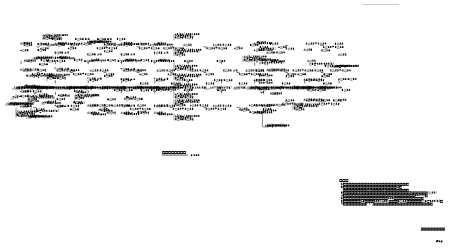wall: (21, 154, 24, 157), (56, 80, 59, 83), (56, 167, 59, 170), (62, 110, 65, 113), (93, 81, 96, 84), (90, 110, 93, 113), (88, 110, 91, 113), (131, 124, 134, 127), (137, 155, 140, 158), (127, 110, 130, 113), (169, 167, 172, 170), (177, 153, 180, 156), (175, 180, 178, 183), (163, 110, 166, 113), (161, 110, 164, 113), (210, 81, 213, 84), (193, 84, 196, 87), (303, 153, 306, 156), (308, 110, 311, 113), (96, 122, 99, 125), (342, 122, 345, 125), (193, 115, 196, 118), (58, 138, 61, 141), (134, 138, 137, 141), (172, 138, 175, 141), (210, 138, 213, 141), (248, 138, 251, 141), (327, 138, 330, 141), (370, 138, 373, 141), (193, 123, 196, 126), (193, 131, 196, 134), (152, 174, 155, 177), (42, 110, 45, 113), (40, 110, 43, 113), (20, 104, 23, 107), (26, 96, 29, 99), (116, 69, 119, 72), (193, 61, 196, 64), (193, 197, 196, 200), (154, 69, 157, 72), (149, 110, 152, 113), (147, 110, 150, 113), (324, 110, 327, 113), (30, 110, 33, 113), (28, 110, 31, 113), (193, 94, 196, 97), (193, 140, 196, 143), (383, 106, 386, 109), (357, 110, 360, 113), (355, 110, 358, 113), (299, 48, 302, 51), (229, 174, 232, 177), (278, 70, 281, 73), (99, 154, 102, 157), (135, 68, 138, 71), (137, 181, 140, 184), (169, 124, 172, 127), (285, 138, 288, 141), (42, 86, 45, 89), (137, 94, 140, 97), (106, 73, 109, 76), (5, 84, 8, 87), (3, 84, 6, 87), (24, 112, 27, 115), (131, 140, 134, 143), (17, 104, 19, 107), (17, 171, 19, 174), (14, 110, 16, 113), (12, 110, 14, 113), (10, 110, 12, 113), (62, 97, 64, 100), (60, 160, 63, 162), (62, 159, 64, 162), (60, 183, 63, 185), (66, 110, 68, 113), (64, 110, 66, 113), (93, 125, 96, 127), (93, 165, 96, 167), (87, 110, 89, 113), (131, 81, 134, 83), (131, 165, 134, 167), (126, 110, 128, 113), (124, 110, 126, 113), (173, 68, 176, 70), (175, 67, 178, 69), (175, 108, 178, 110), (174, 155, 176, 158), (175, 155, 178, 157), (174, 182, 176, 185), (165, 110, 167, 113), (214, 110, 216, 113), (242, 110, 244, 113), (280, 110, 282, 113), (278, 110, 280, 113), (276, 110, 278, 113), (20, 80, 23, 82), (58, 80, 61, 82), (96, 81, 99, 83), (121, 81, 124, 83), (172, 81, 175, 83), (292, 81, 295, 83), (107, 75, 109, 78), (142, 76, 145, 78), (228, 76, 231, 78), (266, 76, 269, 78), (193, 87, 196, 89), (193, 82, 196, 84), (193, 90, 196, 92), (297, 82, 300, 84), (297, 168, 300, 170), (303, 101, 306, 103), (302, 155, 304, 158), (307, 110, 309, 113), (305, 110, 307, 113), (340, 172, 342, 175), (344, 106, 346, 109), (339, 110, 341, 113), (337, 110, 339, 113), (335, 110, 337, 113), (134, 122, 136, 125), (172, 122, 174, 125), (204, 122, 206, 125), (238, 122, 240, 125), (362, 117, 365, 119), (193, 110, 196, 112), (193, 113, 196, 115), (21, 138, 23, 141), (97, 138, 99, 141), (274, 138, 276, 141), (300, 138, 302, 141), (30, 132, 33, 134), (77, 132, 80, 134), (228, 132, 231, 134), (266, 132, 269, 134), (321, 132, 324, 134), (193, 126, 196, 128), (193, 129, 196, 131), (301, 182, 304, 184), (40, 174, 42, 177), (71, 175, 74, 177), (104, 175, 107, 177), (261, 174, 263, 177), (290, 176, 292, 179), (311, 176, 313, 179), (362, 176, 364, 179), (193, 167, 196, 169), (193, 169, 196, 171), (193, 164, 196, 166), (193, 172, 196, 174), (342, 90, 345, 92), (373, 90, 376, 92), (357, 84, 360, 86), (329, 77, 331, 80), (39, 110, 41, 113), (38, 99, 41, 101), (26, 91, 29, 93), (26, 94, 29, 96), (26, 89, 29, 91), (80, 98, 82, 101), (113, 129, 115, 132), (116, 91, 119, 93), (116, 155, 119, 157), (116, 182, 119, 184), (112, 110, 114, 113), (110, 110, 112, 113), (108, 110, 110, 113), (193, 59, 196, 61), (193, 64, 196, 66), (193, 192, 196, 194), (193, 195, 196, 197), (40, 155, 43, 157), (40, 182, 43, 184), (36, 159, 39, 161), (34, 159, 37, 161), (78, 105, 81, 107), (74, 110, 76, 113), (72, 110, 74, 113), (70, 110, 72, 113), (154, 155, 157, 157), (154, 182, 157, 184), (146, 110, 148, 113), (186, 110, 188, 113), (234, 110, 236, 113), (261, 110, 263, 113), (328, 110, 330, 113), (326, 110, 328, 113), (9, 94, 11, 97), (32, 110, 34, 113), (193, 97, 196, 99), (193, 100, 196, 102), (47, 154, 50, 156), (39, 148, 41, 151), (193, 143, 196, 145), (193, 146, 196, 148), (379, 90, 381, 93), (379, 124, 381, 127), (379, 164, 381, 167), (383, 146, 386, 148), (376, 146, 379, 148), (374, 146, 377, 148), (372, 146, 375, 148), (359, 110, 361, 113), (298, 48, 300, 51), (296, 48, 298, 51), (180, 174, 182, 177), (21, 180, 24, 182), (123, 180, 126, 182), (164, 180, 167, 182), (236, 180, 239, 182), (342, 182, 345, 184), (375, 182, 378, 184), (21, 112, 24, 114), (23, 113, 25, 116), (99, 67, 102, 69), (137, 67, 140, 69), (135, 183, 138, 185), (169, 81, 172, 83), (293, 75, 296, 77), (78, 156, 81, 158), (154, 106, 157, 108), (287, 108, 289, 111), (30, 63, 32, 66), (28, 63, 30, 66), (26, 63, 28, 66), (272, 158, 274, 161), (291, 156, 293, 159), (294, 111, 297, 113), (56, 182, 59, 184), (78, 182, 81, 184), (131, 182, 134, 184), (169, 182, 172, 184), (44, 193, 46, 196), (53, 190, 56, 192), (127, 190, 130, 192), (92, 110, 94, 113), (13, 71, 15, 74), (266, 74, 269, 76), (93, 70, 96, 72), (113, 72, 115, 75), (37, 181, 39, 184), (169, 70, 172, 72), (283, 70, 286, 72), (283, 171, 285, 174), (289, 172, 292, 174), (289, 130, 292, 132), (2, 84, 4, 87), (113, 169, 115, 172), (293, 73, 296, 75), (17, 96, 19, 99), (289, 118, 292, 120), (38, 97, 41, 99), (17, 140, 19, 142), (23, 154, 25, 156), (56, 141, 58, 143), (60, 98, 62, 100), (64, 158, 66, 160), (62, 182, 64, 184), (136, 156, 138, 158), (139, 154, 141, 156), (174, 107, 176, 109), (283, 82, 285, 84), (283, 123, 285, 125), (283, 183, 285, 185), (237, 81, 239, 83), (278, 82, 280, 84), (74, 75, 76, 77), (191, 76, 193, 78), (298, 140, 300, 142), (302, 101, 304, 103), (340, 91, 342, 93), (340, 124, 342, 126), (344, 154, 346, 156), (346, 149, 348, 151), (154, 117, 156, 119), (189, 117, 191, 119), (229, 117, 231, 119), (266, 117, 268, 119), (286, 123, 288, 125), (315, 117, 317, 119), (29, 130, 31, 132), (115, 132, 117, 134), (153, 132, 155, 134), (185, 132, 187, 134), (290, 132, 292, 134), (363, 132, 365, 134), (279, 180, 281, 182), (288, 174, 290, 176), (316, 84, 318, 86), (329, 80, 331, 82), (329, 75, 331, 77), (329, 83, 331, 85), (13, 67, 15, 69), (13, 69, 15, 71), (80, 93, 82, 95), (80, 96, 82, 98), (37, 172, 39, 174), (33, 159, 35, 161), (151, 71, 153, 73), (320, 129, 322, 131), (24, 130, 26, 132), (124, 106, 126, 108), (166, 106, 168, 108), (204, 106, 206, 108), (242, 106, 244, 108), (90, 154, 92, 156), (128, 154, 130, 156), (166, 154, 168, 156), (204, 154, 206, 156), (241, 154, 243, 156), (360, 129, 362, 131), (364, 110, 366, 112), (364, 146, 366, 148), (21, 183, 23, 185), (47, 180, 49, 182), (89, 182, 91, 184), (203, 180, 205, 182), (98, 156, 100, 158), (98, 98, 100, 100), (98, 69, 100, 71), (287, 185, 289, 187), (289, 183, 291, 185), (287, 71, 289, 73), (289, 70, 291, 72), (291, 103, 293, 105), (289, 108, 291, 110), (35, 75, 37, 77), (33, 72, 35, 74), (272, 156, 274, 158), (272, 161, 274, 163), (287, 157, 289, 159), (289, 151, 291, 153), (293, 155, 295, 157), (13, 64, 15, 66), (17, 183, 19, 185), (75, 139, 77, 141), (44, 191, 46, 193), (44, 196, 46, 198), (80, 190, 82, 192), (105, 190, 107, 192), (97, 185, 99, 187), (95, 185, 97, 187), (93, 185, 95, 187), (103, 185, 105, 187), (136, 92, 138, 94), (49, 87, 51, 89), (59, 92, 61, 94), (78, 87, 80, 89), (77, 85, 79, 87), (48, 85, 50, 87), (13, 97, 15, 99), (75, 181, 77, 183), (113, 181, 115, 183), (132, 70, 134, 72), (151, 182, 153, 184), (48, 126, 50, 128), (48, 129, 50, 131), (48, 131, 50, 133), (80, 103, 82, 105), (37, 139, 39, 141), (75, 81, 77, 83), (113, 81, 115, 83), (151, 81, 153, 83), (320, 90, 322, 92), (320, 174, 322, 176), (360, 90, 362, 92), (360, 171, 362, 173), (7, 84, 9, 86), (17, 80, 19, 82), (151, 139, 153, 141)
